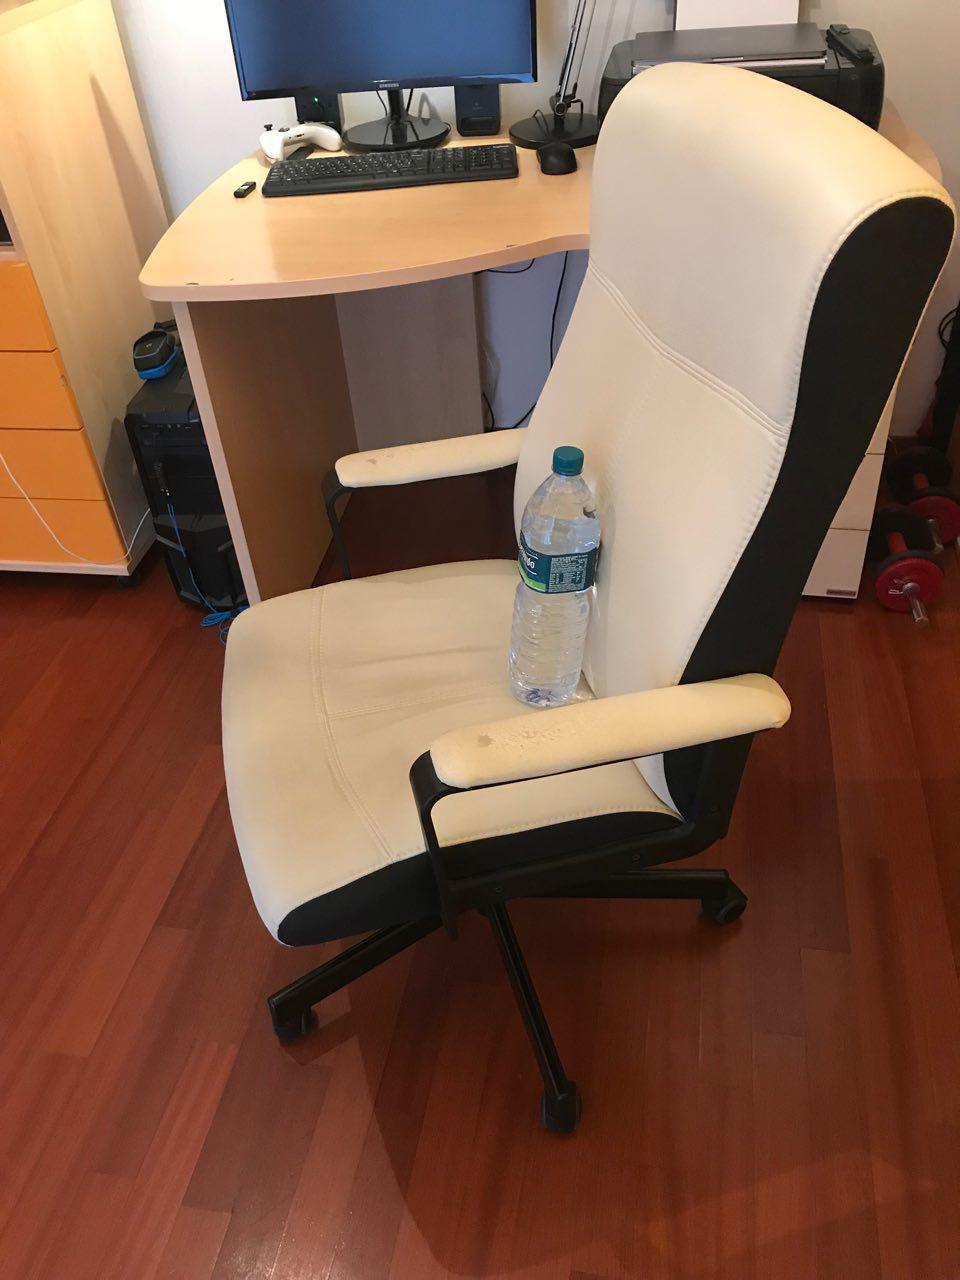san_bernardo: (508, 447, 602, 707)
